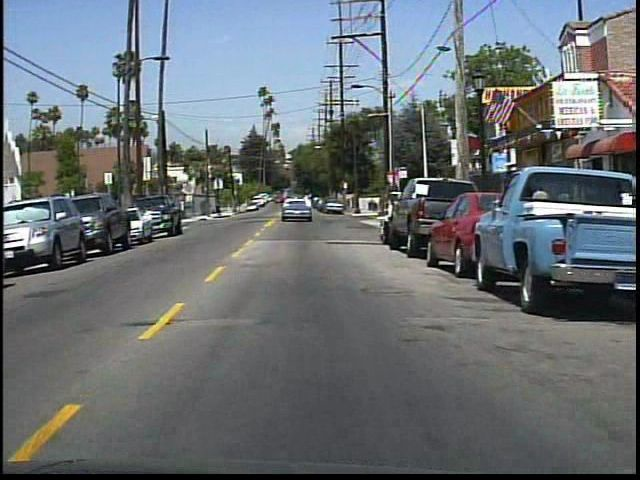person: (528, 178, 553, 237)
